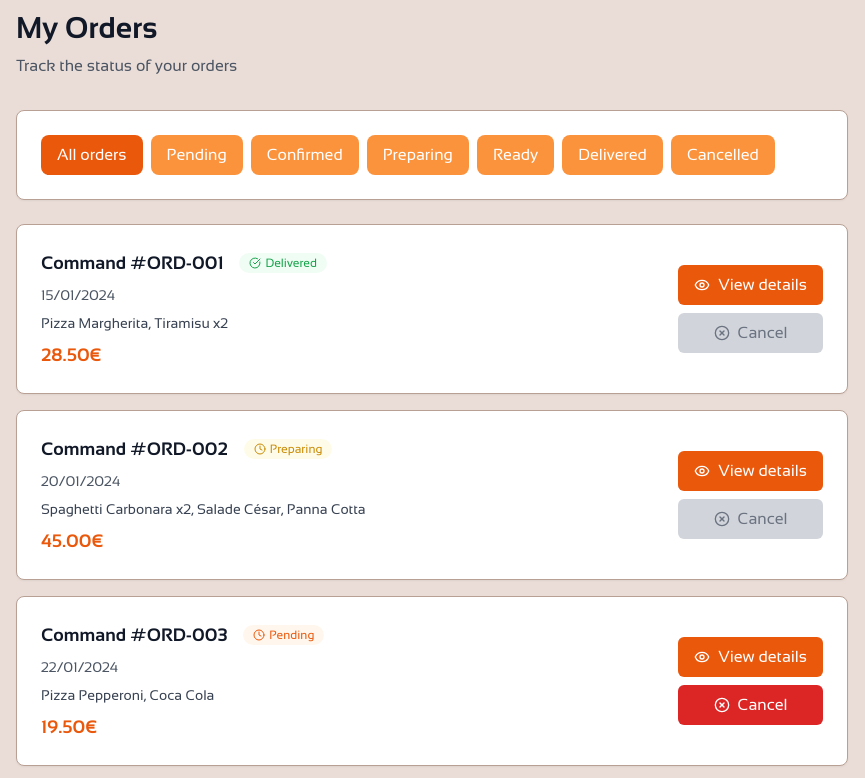
Orders Component › should show detailed order breakdown when expanded
Click the button "View details" in the row of "ORD-001".
click(751, 285)  # box [678,265,823,305]
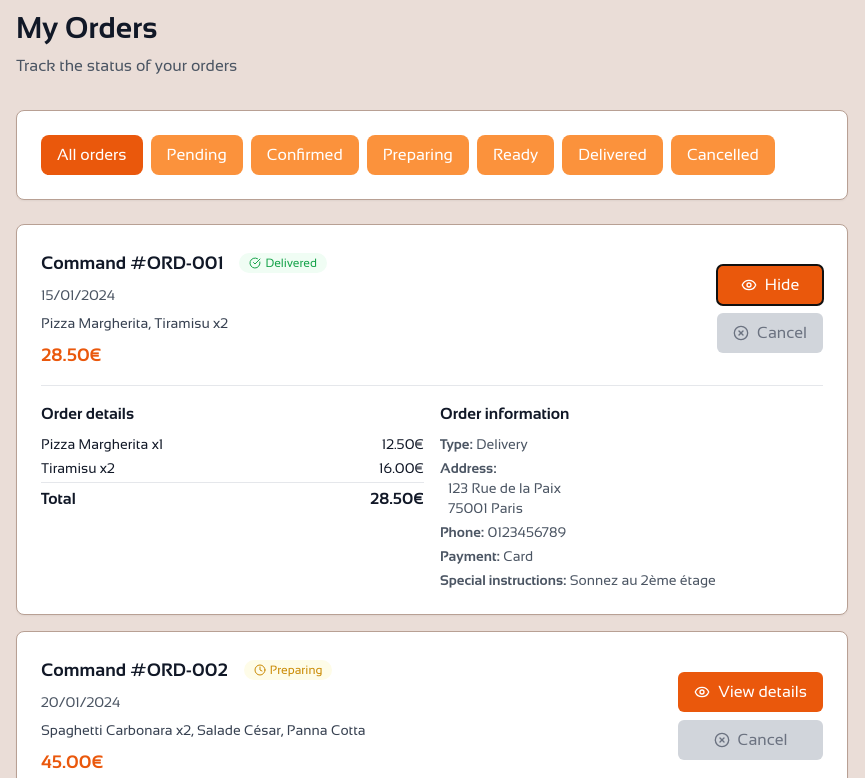
Now the text "Pizza Margherita x1" is shown, box [41,434,163,454]
Now the text "Tiramisu x2" is shown, box [41,458,115,478]
Now the text "Address:" is shown, box [440,460,496,476]
